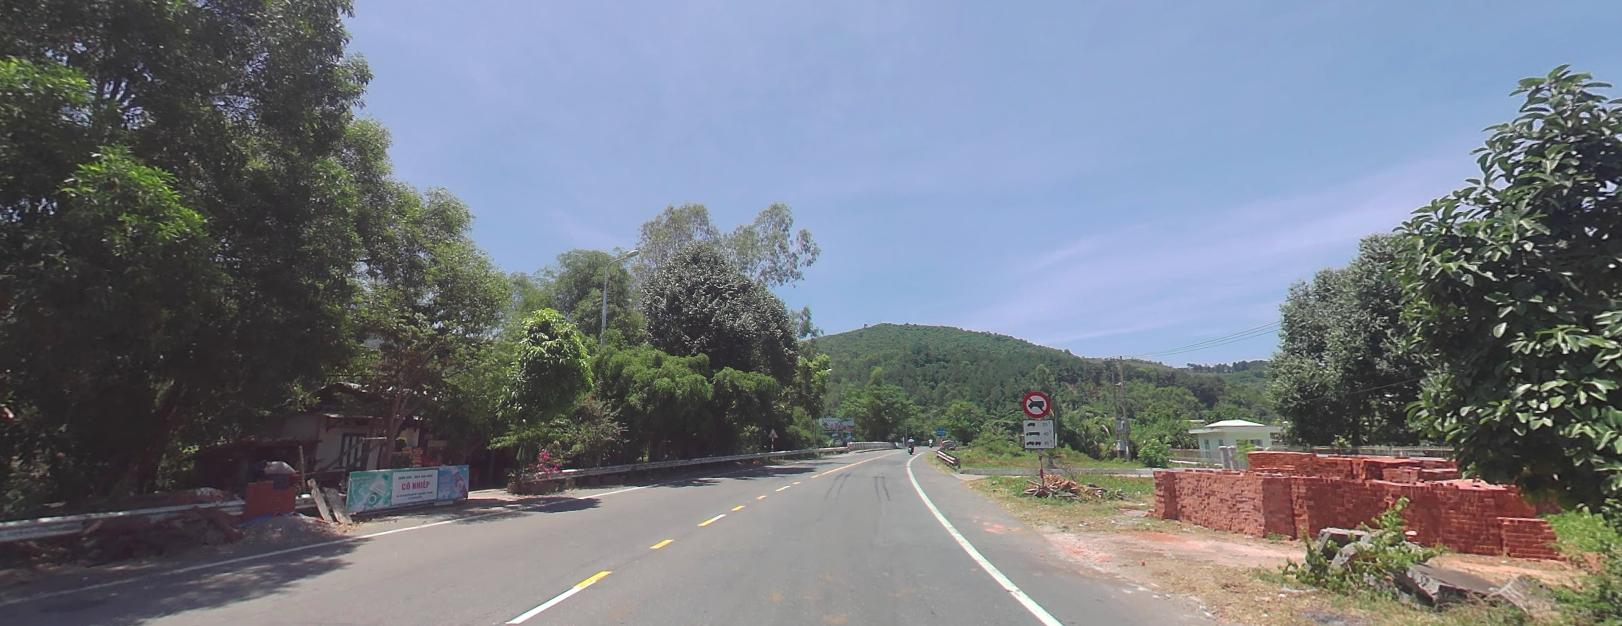Cam con lai: (1022, 389, 1050, 416)
